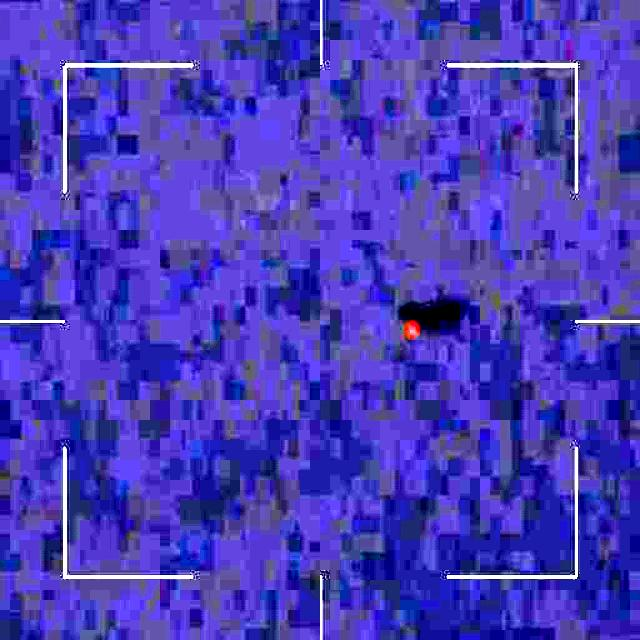bird: (400, 301, 431, 349)
